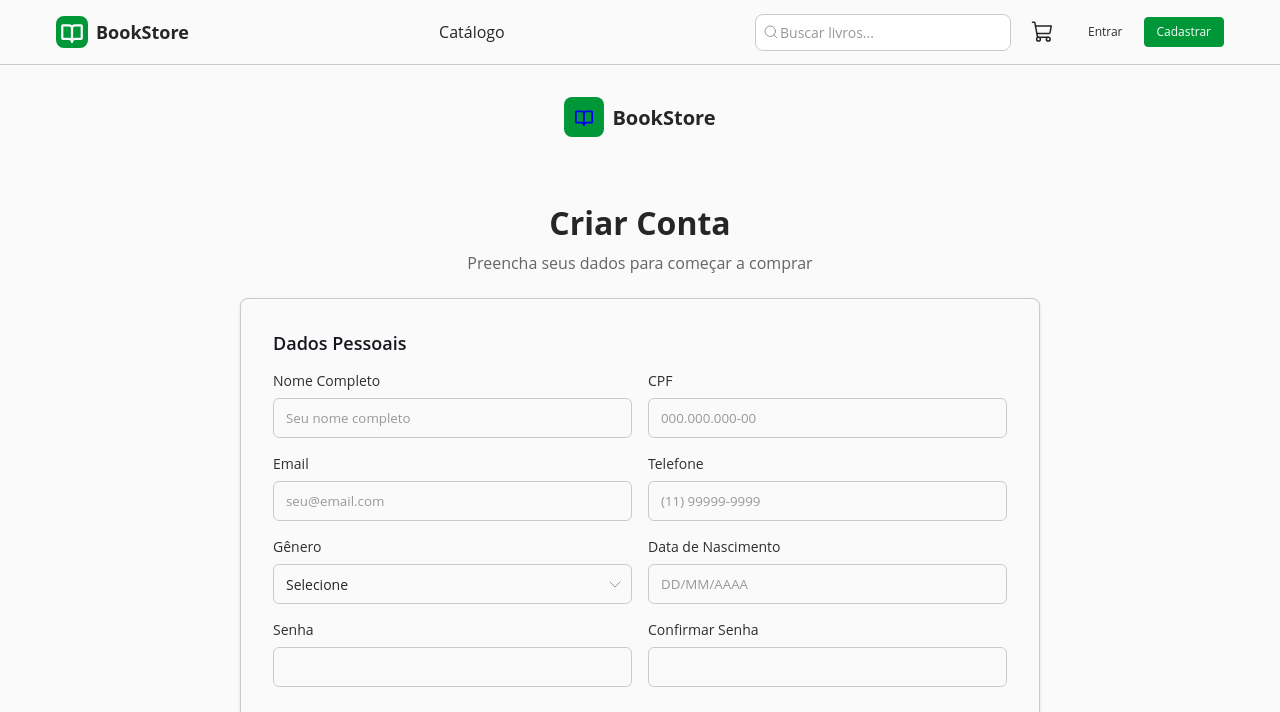
Test: Sign Up Form › Field Masking and Input Formatting › should apply CPF mask while typing
Type "12345678909" into the field with test id "cpf-input". click: (828, 418)
box: [661,409,994,427]
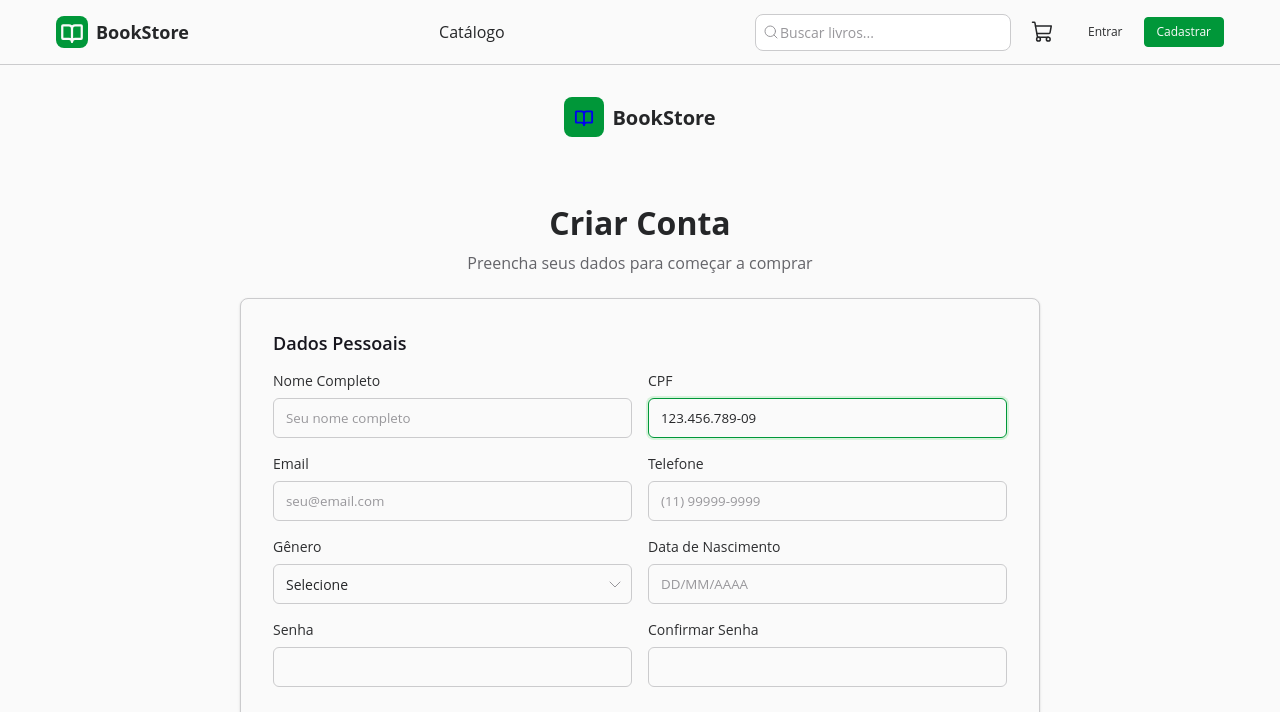
Expected: the field with test id "cpf-input" holds "123.456.789-09", [661,409,994,427]
